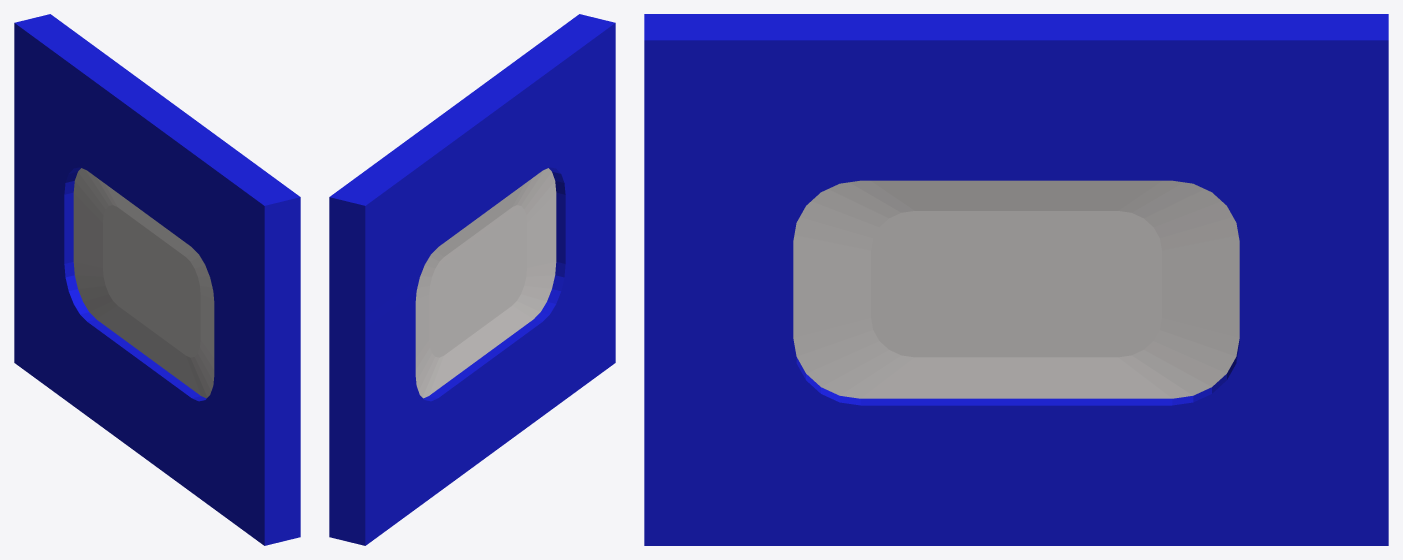
Rendered from window[glass][frame] - 6x12.fbx.
3 views of the same model, side by side, from view 1: azimuth 30°, elevation 25°; view 2: azimuth 150°, elevation 25°; view 3: azimuth 270°, elevation 25° (orthographic). The views are drawn at different scales.
Visible parts, largest first — view 1: window[screen] - 6x12-ex, window[screen][glass] - 6x12-ex; view 2: window[screen] - 6x12-ex, window[screen][glass] - 6x12-ex; view 3: window[screen] - 6x12-ex, window[screen][glass] - 6x12-ex.
Boxes of the visible parts, x1=… form: window[screen] - 6x12-ex: x1=14, y1=14, x2=300, y2=545; window[screen][glass] - 6x12-ex: x1=73, y1=168, x2=214, y2=398; window[screen] - 6x12-ex: x1=329, y1=14, x2=615, y2=545; window[screen][glass] - 6x12-ex: x1=415, y1=168, x2=556, y2=398; window[screen] - 6x12-ex: x1=644, y1=14, x2=1388, y2=545; window[screen][glass] - 6x12-ex: x1=793, y1=180, x2=1239, y2=398.
Size of the model in its own units: 0.5 by 4.5 by 6.
